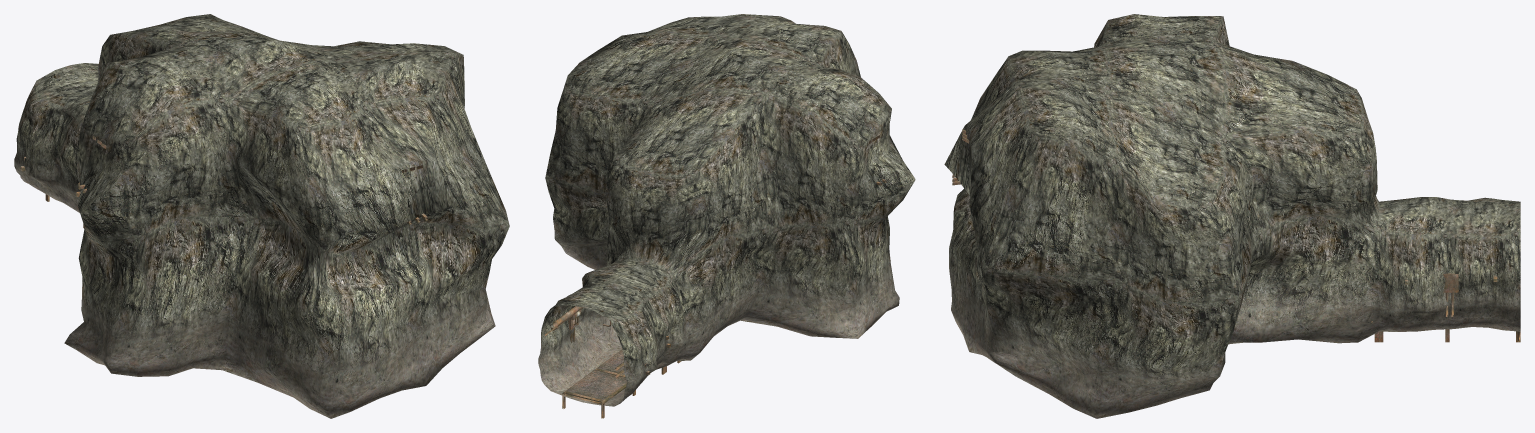
File: poi_all_bunker_mad_bio_s01_r8_caveroom1_mesh_r8.fbx
The picture shows the model from 3 angles, left to right: view 1: azimuth 30°, elevation 25°; view 2: azimuth 150°, elevation 25°; view 3: azimuth 270°, elevation 25°; orthographic projection. The views are drawn at different scales.
Visible parts, largest first — view 1: mesh_node; view 2: mesh_node; view 3: mesh_node.
Boxes of the visible parts, x1,y1,x2,y2 form: mesh_node: (14, 14, 509, 418); mesh_node: (538, 14, 915, 418); mesh_node: (944, 14, 1520, 418).
Size of the model in its own units: 24.7 by 17.47 by 32.58.
